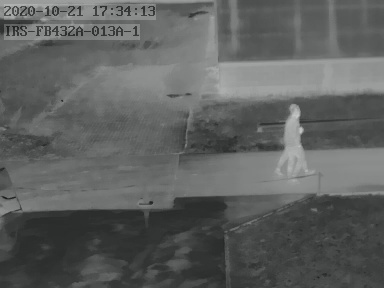person: (277, 104, 314, 180)
